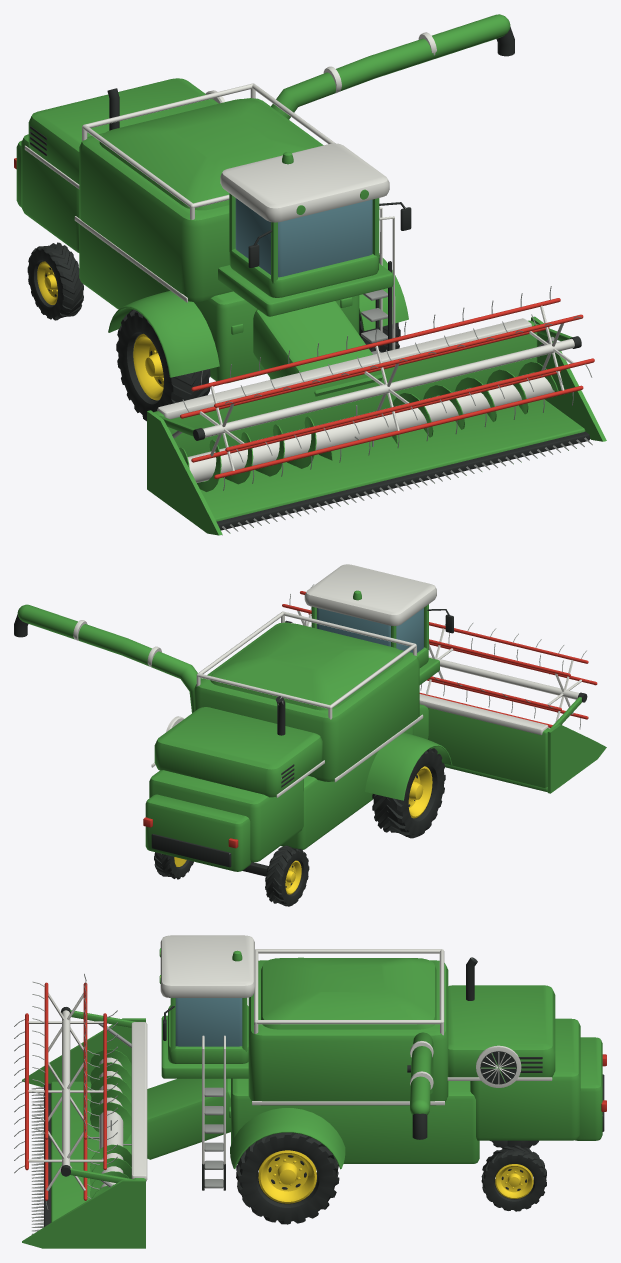
The model's file is Cosechadora.fbx.
3 views of the same model, one above another, from view 1: azimuth 30°, elevation 25°; view 2: azimuth 150°, elevation 25°; view 3: azimuth 270°, elevation 25° (orthographic). The views are drawn at different scales.
Visible parts, largest first — view 1: Body; view 2: Body; view 3: Body.
Part boxes in pixels (x1,y1,x2,y2): Body: (14,14,606,535); Body: (14,564,606,906); Body: (14,935,606,1248).
Size of the model in its own units: 77.56 by 37.29 by 88.
